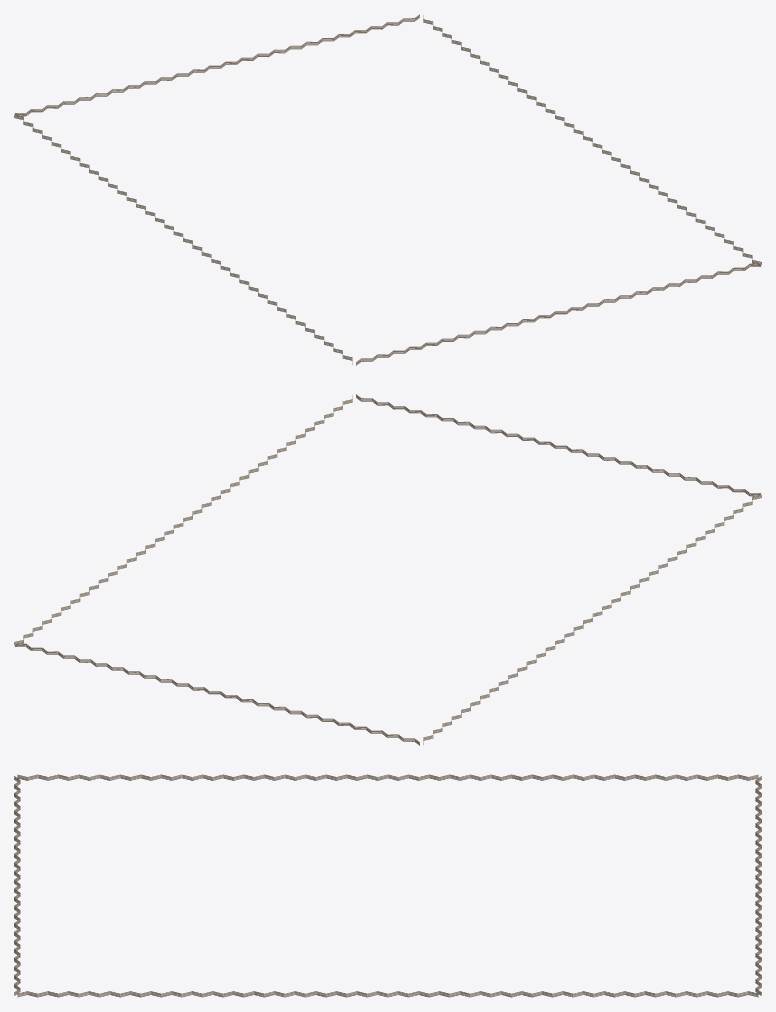
The model's file is forks_company_cornfield_1812__cornfield_1808.glb.
The picture shows the model from 3 angles, top to bottom: view 1: azimuth 30°, elevation 25°; view 2: azimuth 150°, elevation 25°; view 3: azimuth 270°, elevation 25°; orthographic projection. The views are drawn at different scales.
Visible parts, largest first — view 1: forks_company_cornfield_1812__cornfield_1808; view 2: forks_company_cornfield_1812__cornfield_1808; view 3: forks_company_cornfield_1812__cornfield_1808.
Part boxes in pixels (x1,y1,x2,y2): forks_company_cornfield_1812__cornfield_1808: [14, 14, 761, 365]; forks_company_cornfield_1812__cornfield_1808: [14, 394, 761, 745]; forks_company_cornfield_1812__cornfield_1808: [14, 774, 761, 997].
Size of the model in its own units: 152 by 1.17 by 219.
